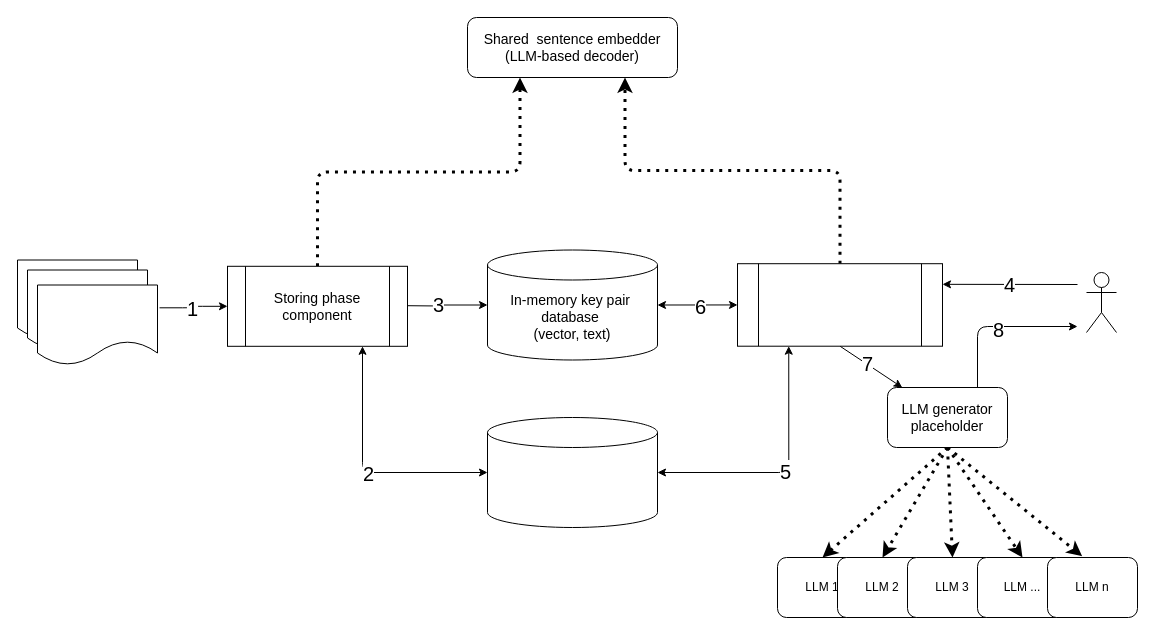
Image size: 1155x635. Some labels were removed from this diagram. The centre of each missing label's shape, as x and y in pixels:
Actor: the point at 1101,302
Documents: the point at 97,324
Non-parametric memory: the point at 572,472
Retrieval augmentation phase component: the point at 839,304
